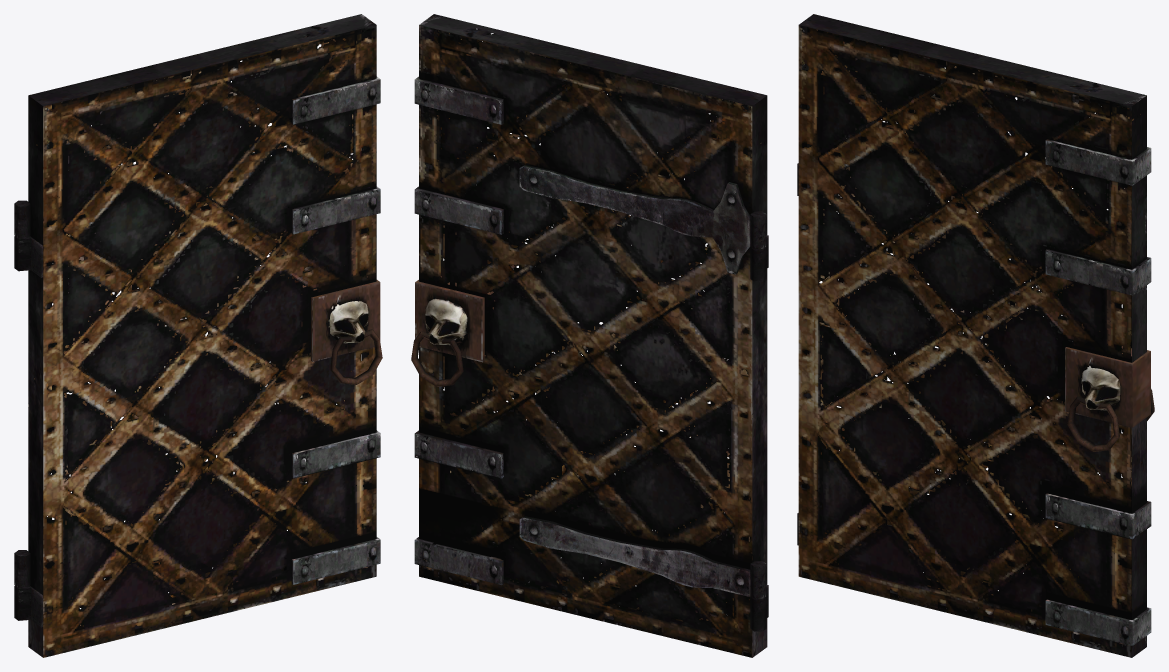
The model's file is metal_skull.dae.
3 renders of one model, left to right at view 1: azimuth 30°, elevation 25°; view 2: azimuth 150°, elevation 25°; view 3: azimuth 330°, elevation 25°, orthographic.
Visible parts, largest first — view 1: group1, hinge; view 2: group1, hinge; view 3: group1.
Boxes of the visible parts, x1,y1,x2,y2 form: group1: [14, 14, 382, 657]; hinge: [14, 236, 42, 627]; group1: [411, 14, 767, 657]; hinge: [750, 235, 768, 631]; group1: [798, 14, 1154, 657].
Bounding box in the file's own units: 1.81 × 0.4127 × 2.74.
